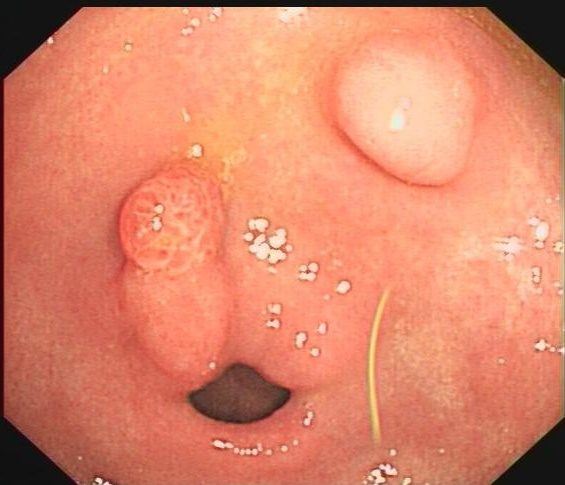Polyp: (322, 45, 481, 187), (111, 155, 231, 272)
